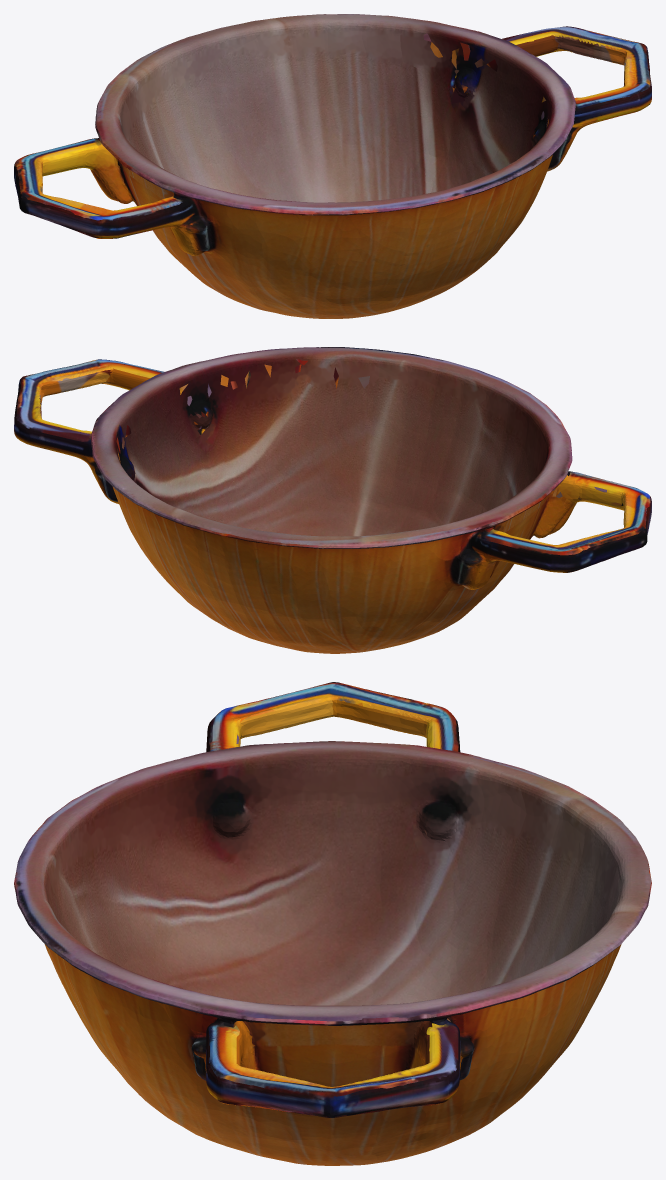
The model's file is image_0001_segmented.glb.
3 renders of one model, top to bottom at view 1: azimuth 30°, elevation 25°; view 2: azimuth 150°, elevation 25°; view 3: azimuth 270°, elevation 25°, orthographic. The views are drawn at different scales.
Visible parts, largest first — view 1: tmp_f1s1kx_.ply; view 2: tmp_f1s1kx_.ply; view 3: tmp_f1s1kx_.ply.
Part boxes in pixels (box(x1,y1,x2,y2)): tmp_f1s1kx_.ply: box(14, 14, 651, 318); tmp_f1s1kx_.ply: box(14, 347, 651, 653); tmp_f1s1kx_.ply: box(14, 682, 651, 1165).
Bounding box in the file's own units: 1.99 × 0.5163 × 1.28.
Materials: 1 (1 with a texture image).
